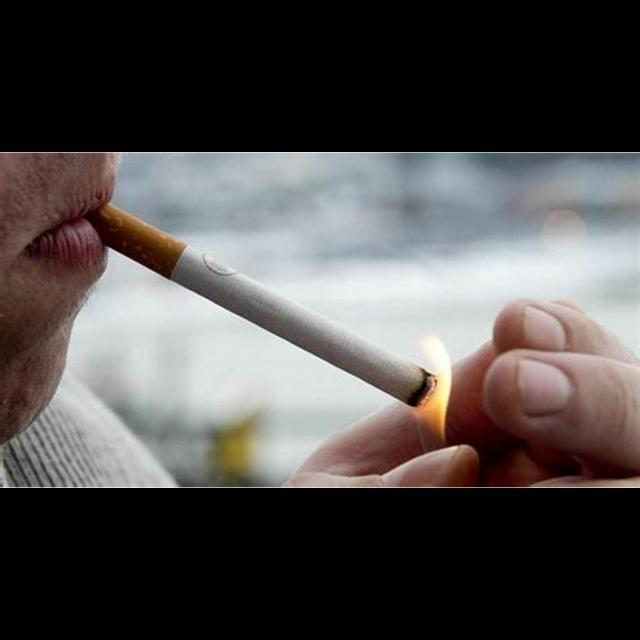rokok: (108, 195, 442, 412)
